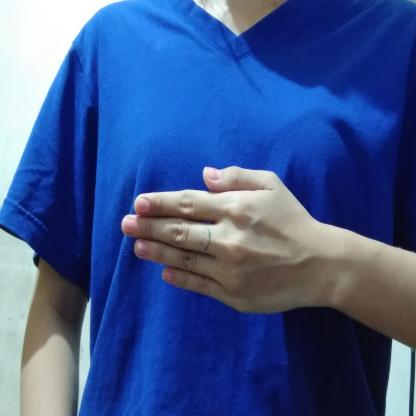ready: (110, 160, 351, 324)
